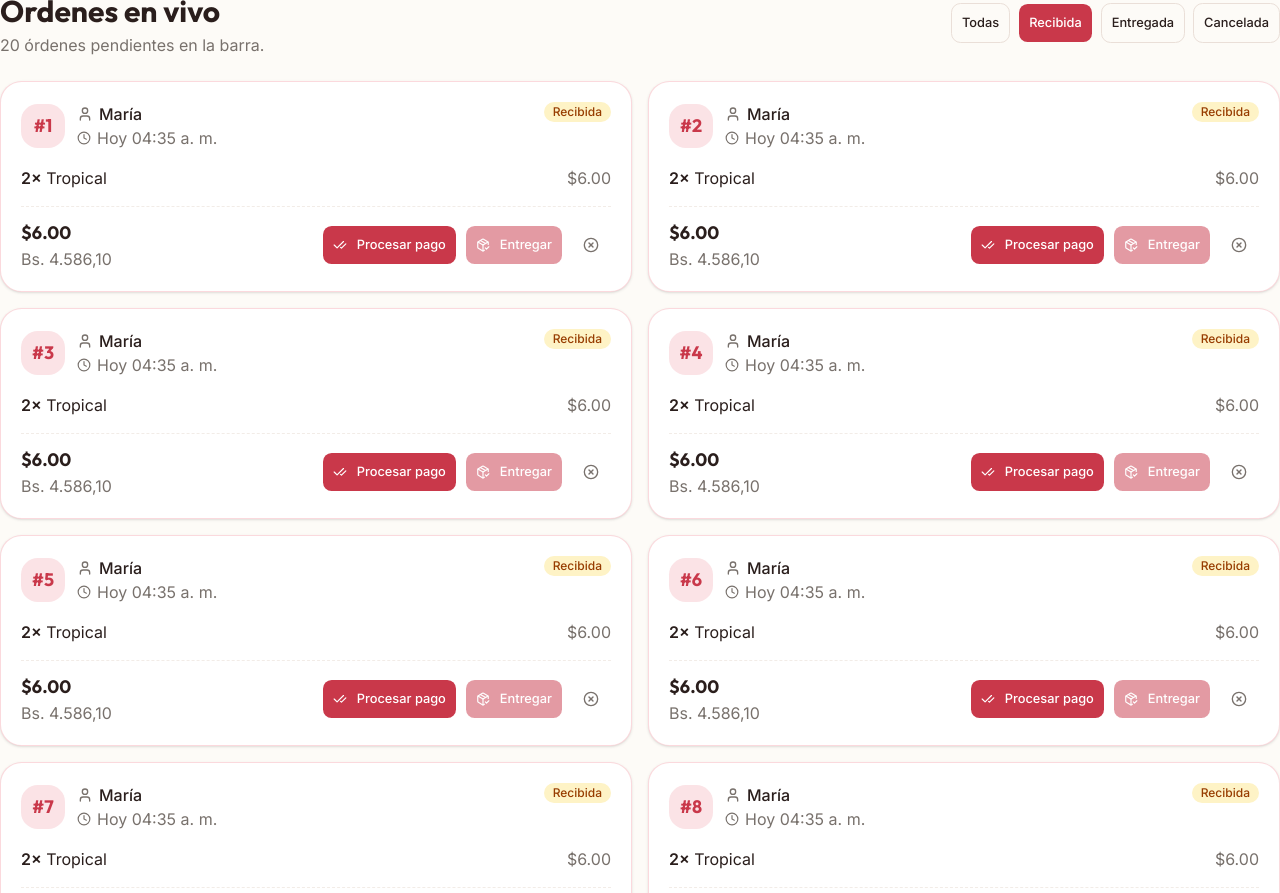
Test: PanelOrdenes › reinicia a la primera página al cambiar el filtro
Click the button "Todas".
click(981, 23)  # box x1=951 y1=3 x2=1010 y2=43
(page scrolled)
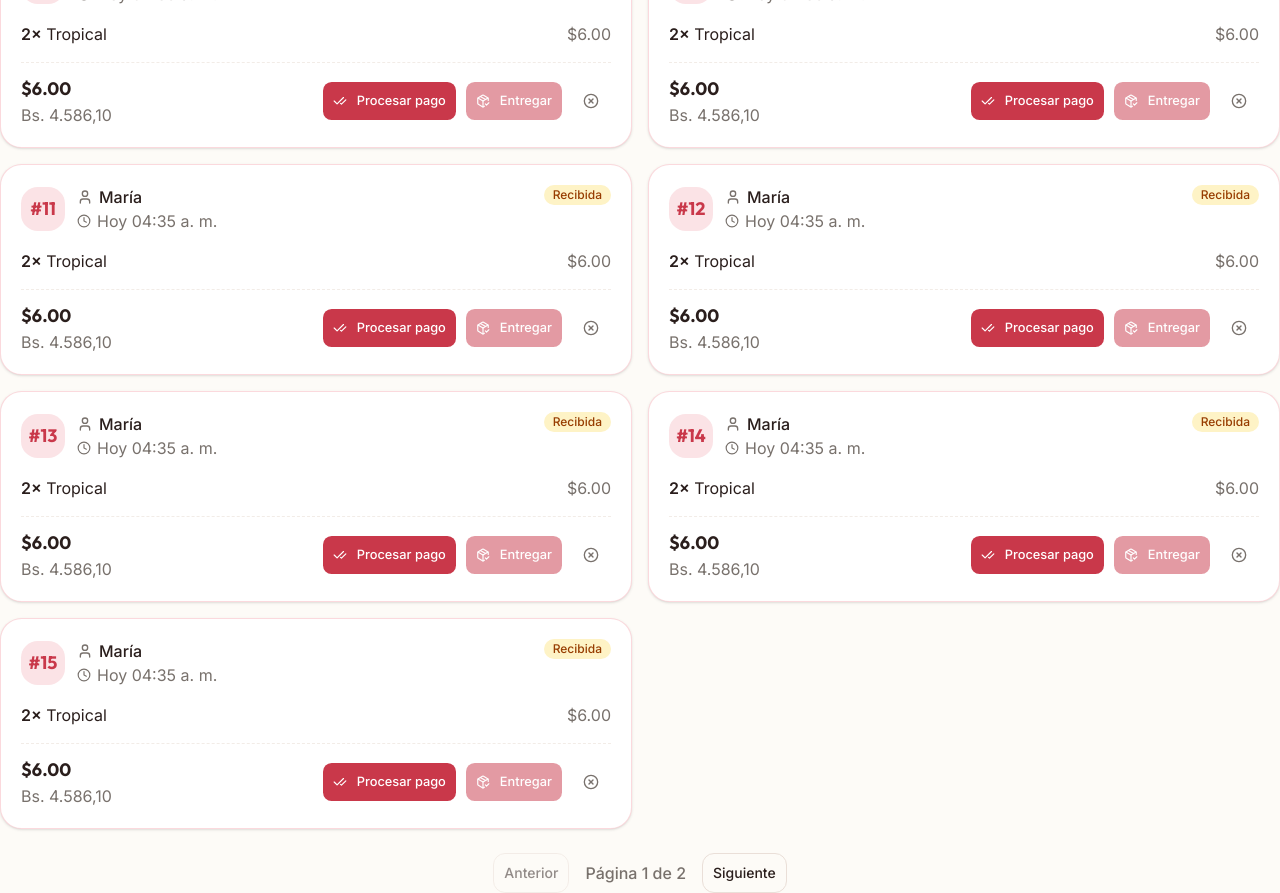
Click the button with aria-label "página siguiente".
click(744, 873)  # box x1=702 y1=853 x2=787 y2=892
(page scrolled)
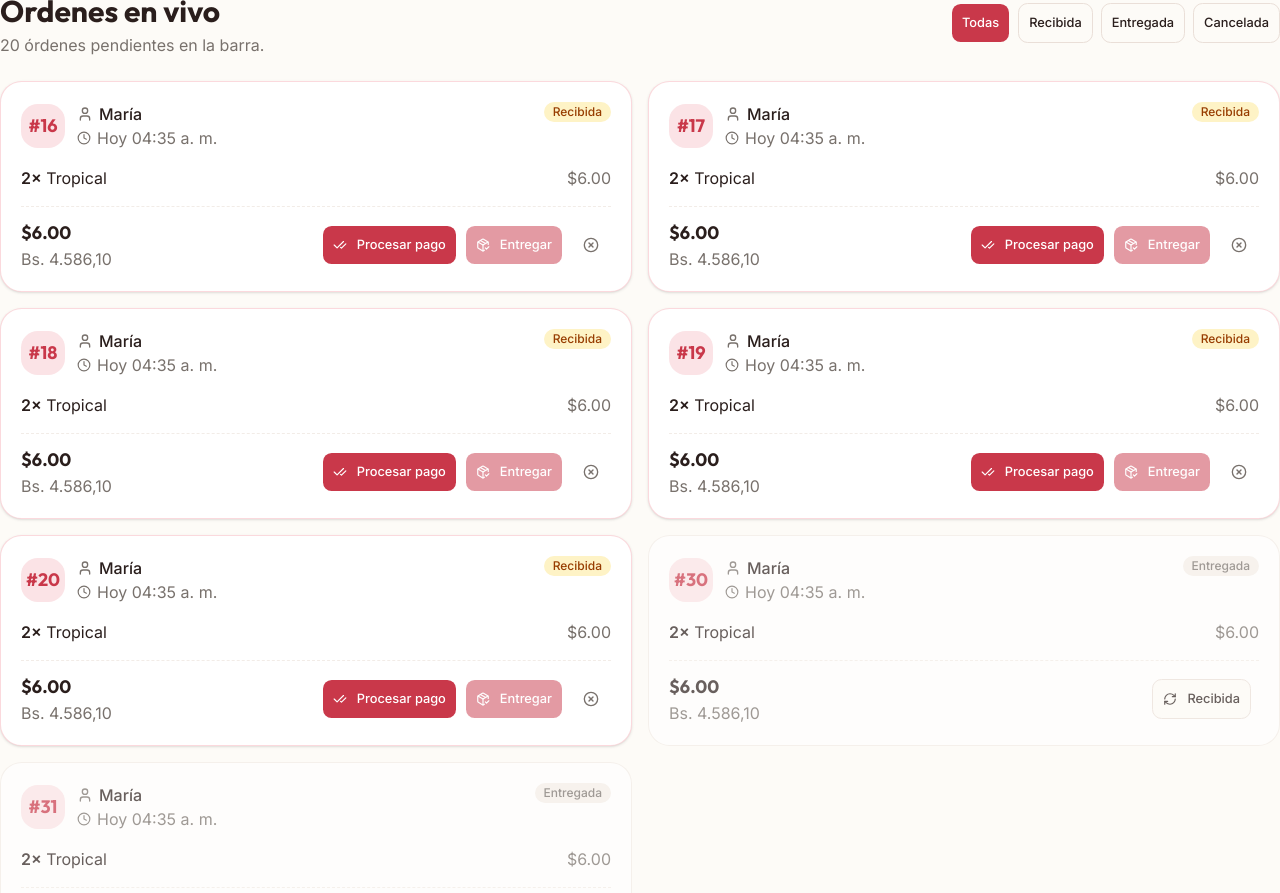
Click the button "Recibida" in the row of "20 órdenes pendientes en la barra.".
click(1055, 23)  # box x1=1018 y1=3 x2=1093 y2=43
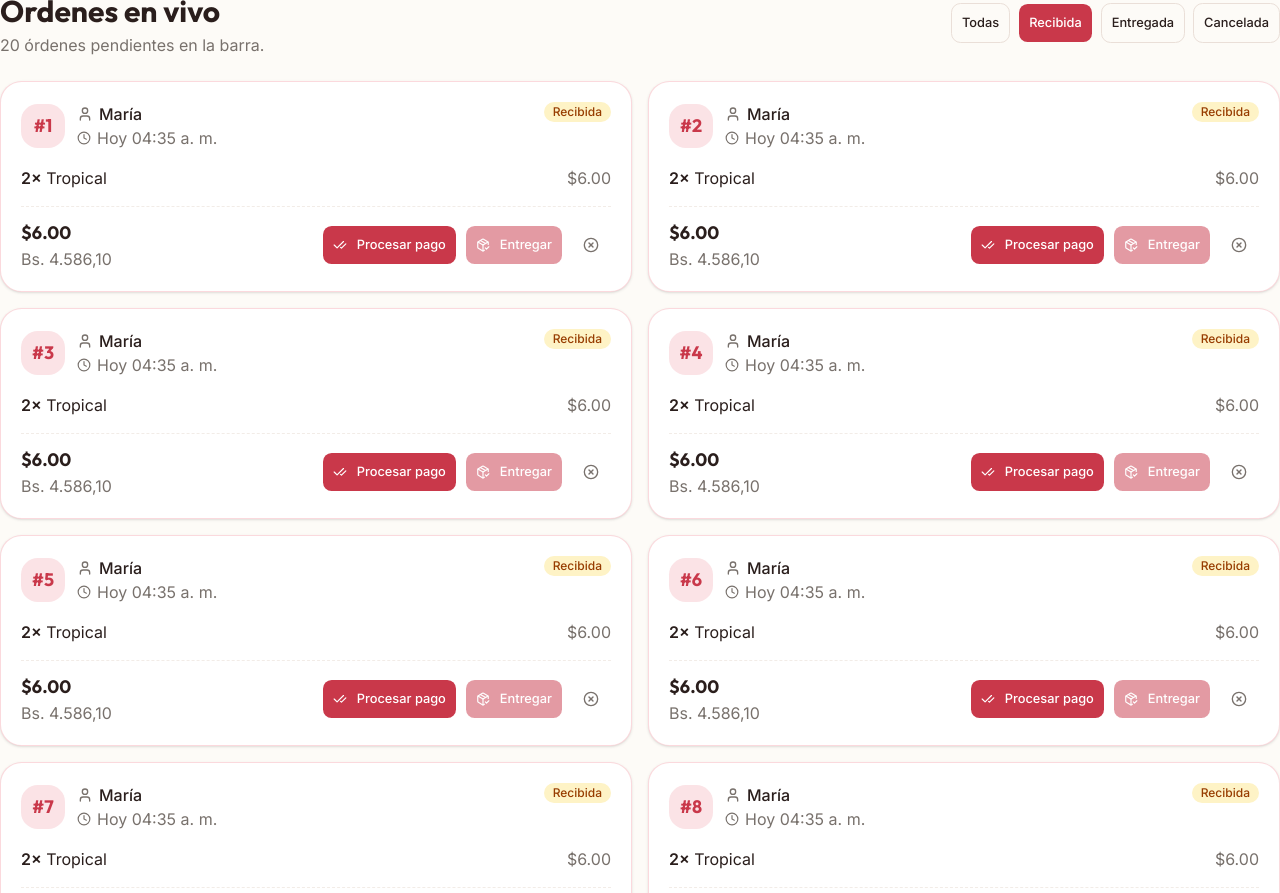
Expected: the text "#1" is shown, x1=21 y1=104 x2=65 y2=148
